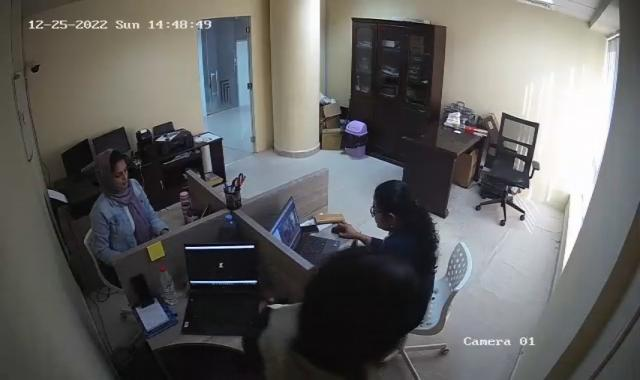no_hairnet: (306, 245, 421, 369), (370, 180, 417, 231), (92, 150, 130, 190)
